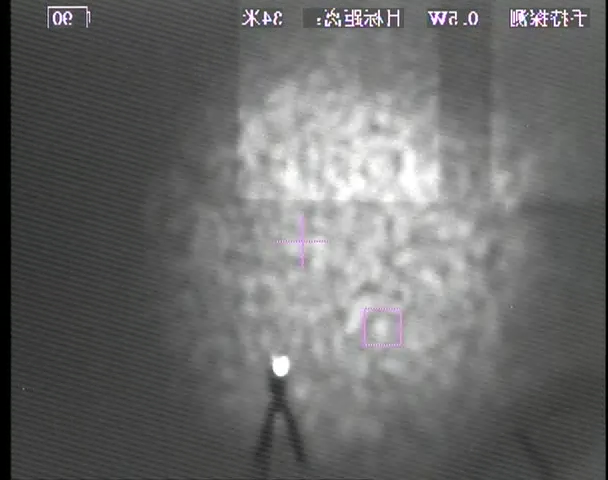my: (270, 354, 292, 379)
